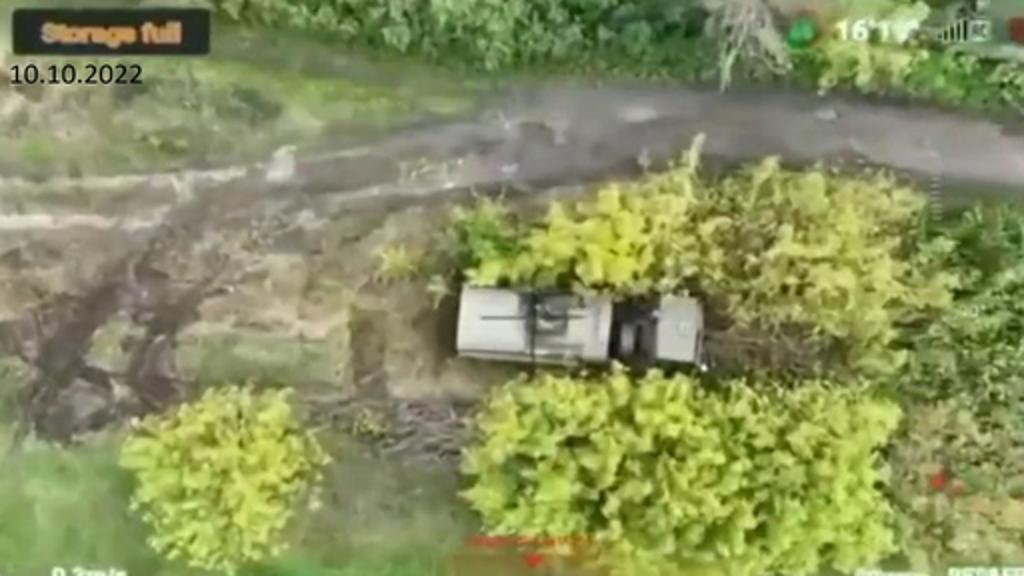TRUCK: (434, 260, 714, 400)
